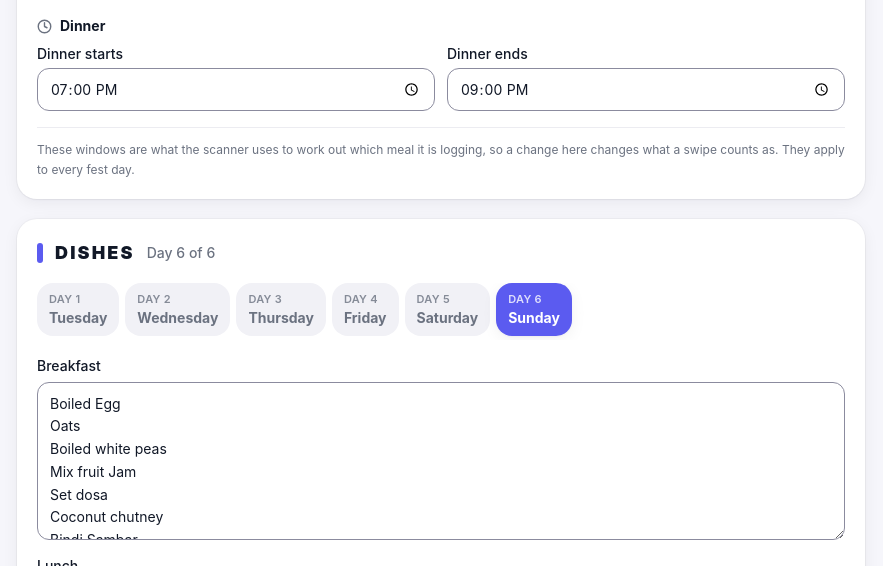
Scenario: MessMenuPage › publishing › previews the draft before it is sent, and sends nothing until asked
(page scrolled)
Click the tab "Day 1 Tuesday" at (78, 309), box x1=37 y1=283 x2=119 y2=336
(page scrolled)
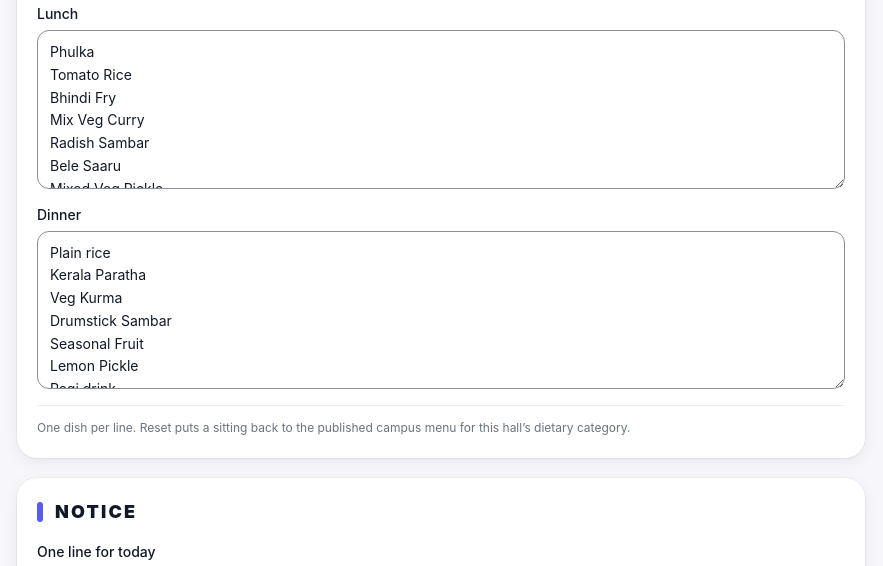
Clear the text box labelled "Dinner" at (441, 310), box x1=37 y1=231 x2=845 y2=389
(page scrolled)
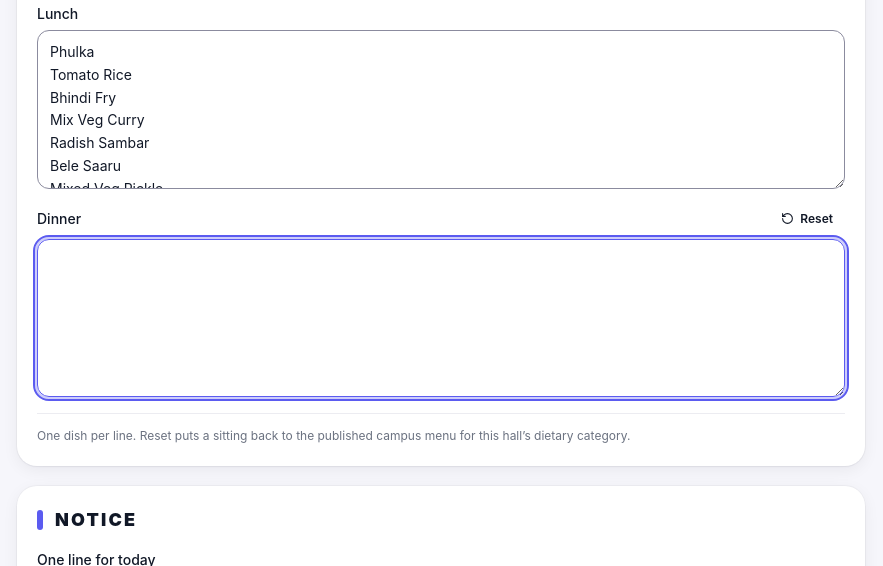
Type keys "Biryani"
(page scrolled)
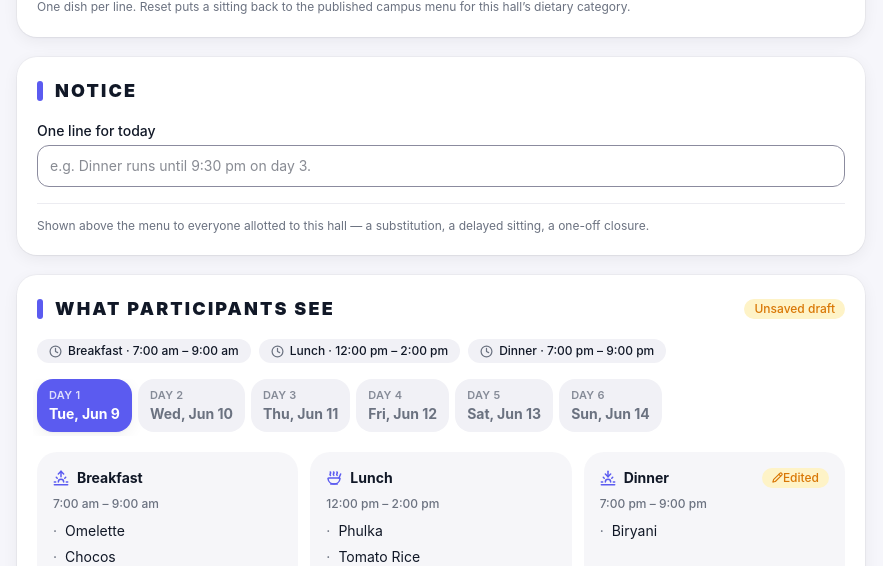
Check: the text "Unsaved draft" is shown, box x1=744 y1=299 x2=845 y2=319
Check: the text "Biryani" is shown, box x1=612 y1=520 x2=657 y2=542
